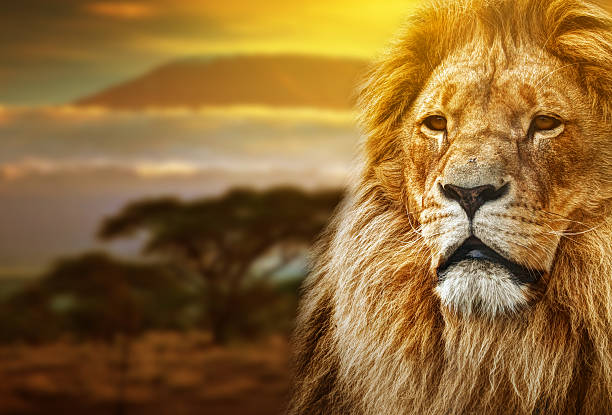lion: (298, 1, 610, 415)
